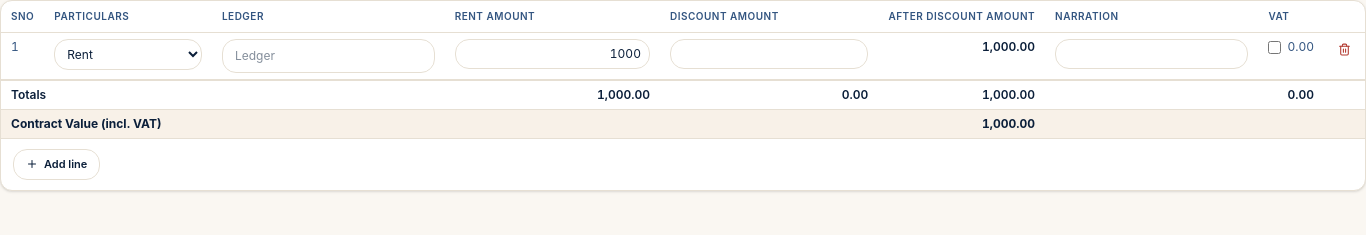
Test: LeaseLinesGrid › blocks a discount larger than the amount, inline on the row
In the field with test id "lease-line-discount-0": [769, 54] box [670,39,868,69], type "1500"
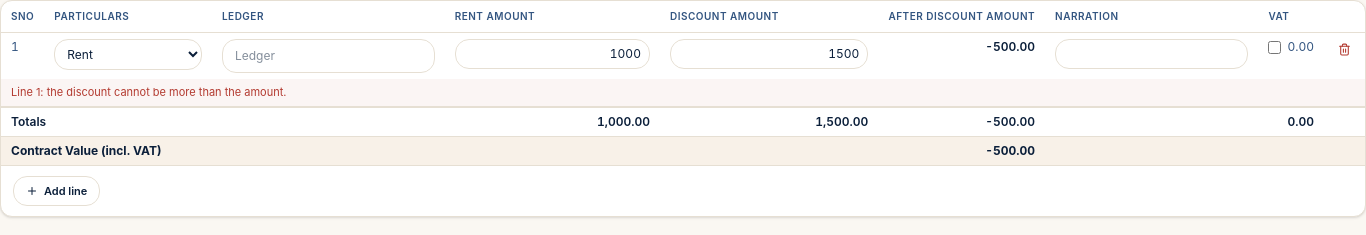
Check: the list with test id "lease-line-errors-0" reads "Line 1: the discount cannot be more than the amount.", box [11,85,286,99]
